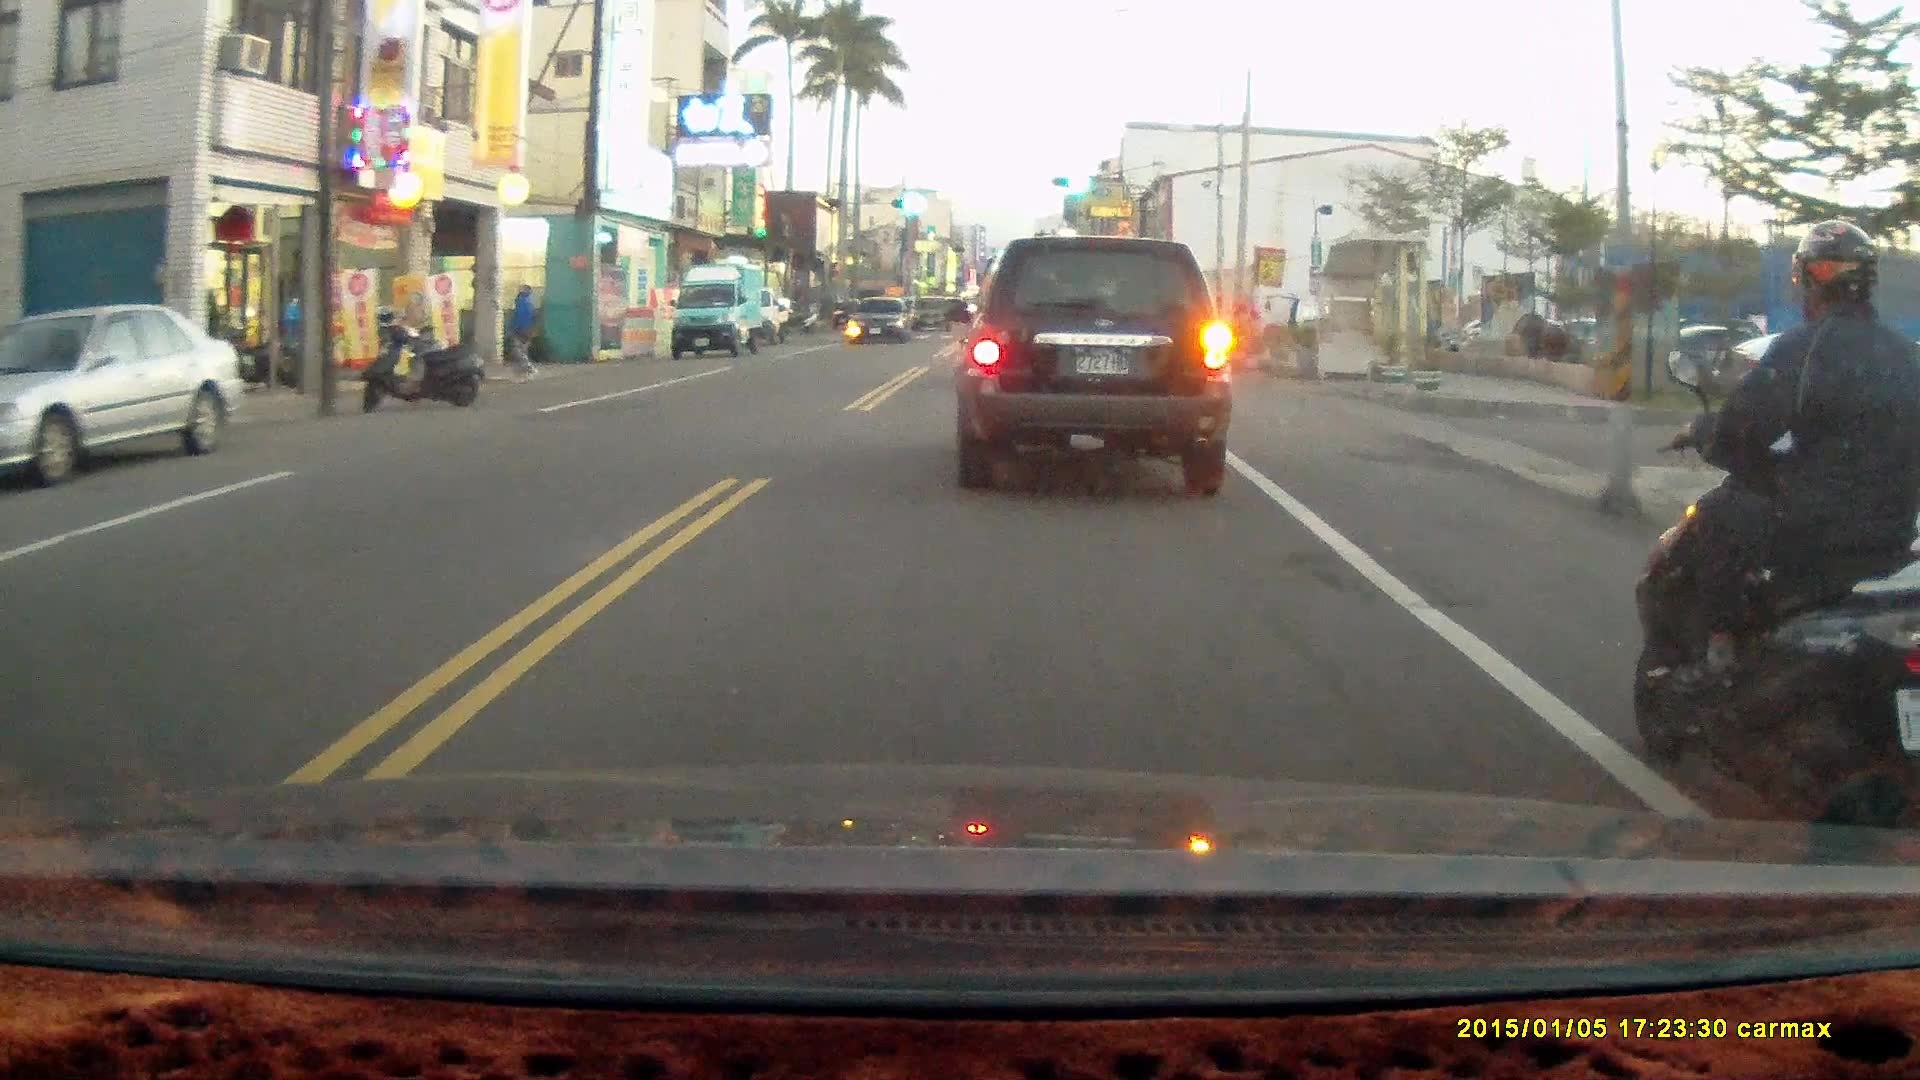pedestrian: (506, 281, 540, 380)
rider: (1630, 222, 1920, 862)
vehicle: (953, 233, 1234, 501), (1, 303, 250, 484), (672, 257, 770, 361), (846, 296, 916, 345)
